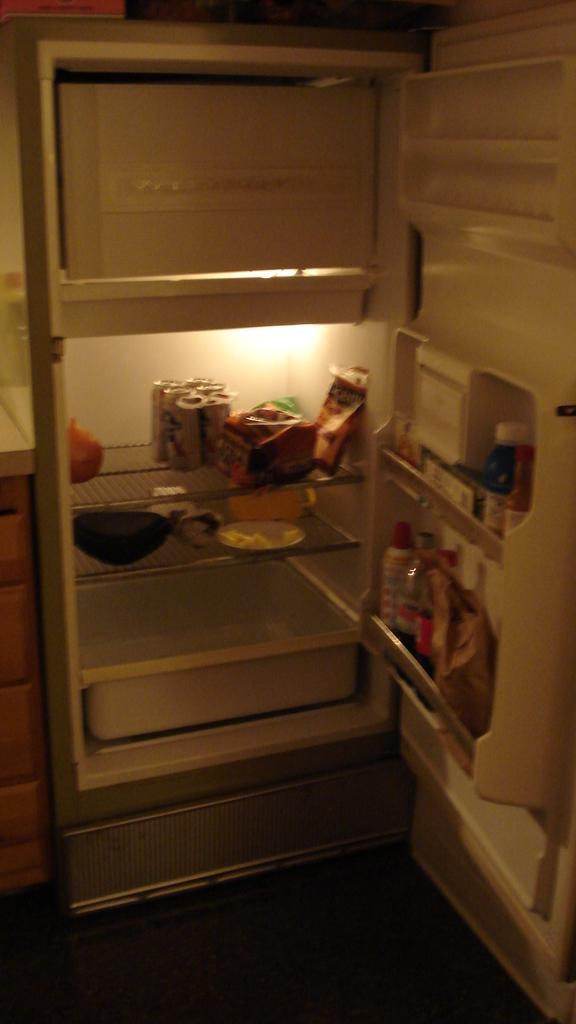cabinet_door: (2, 686, 34, 790), (3, 592, 28, 676), (3, 794, 38, 840), (3, 514, 25, 574)
